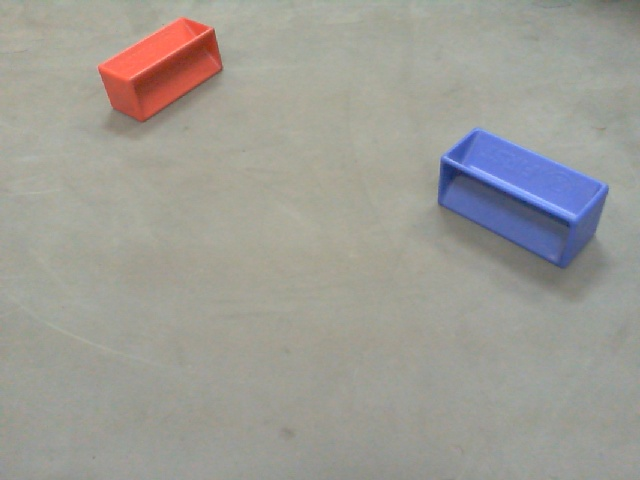BlueSample: (432, 115, 616, 275)
RedSample: (93, 15, 226, 127)
